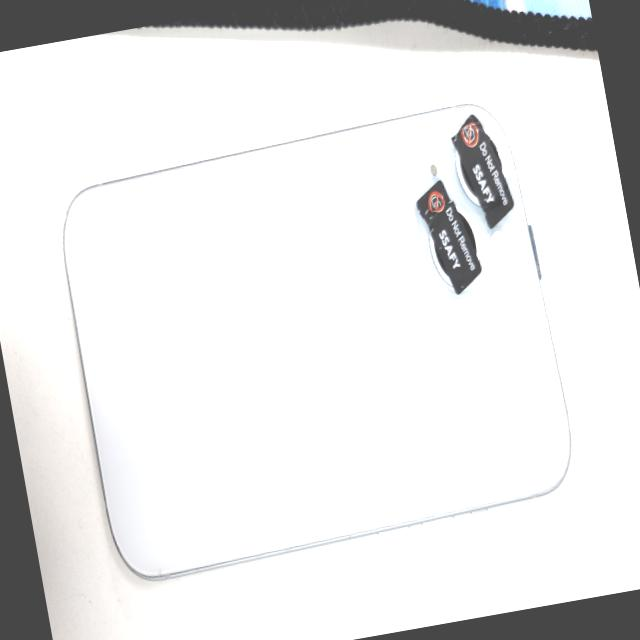phone: (46, 89, 586, 596)
sticker: (414, 184, 486, 300), (450, 113, 514, 232)
